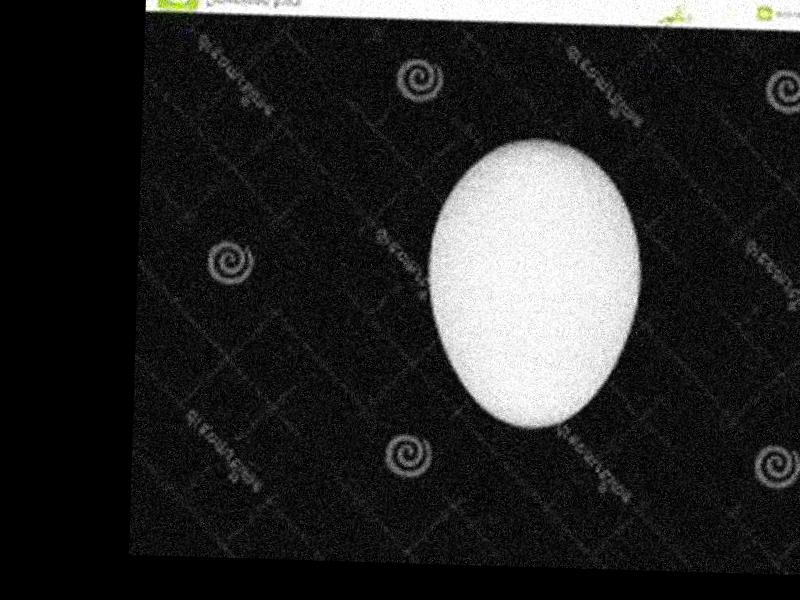Eggs: (426, 137, 649, 429)
